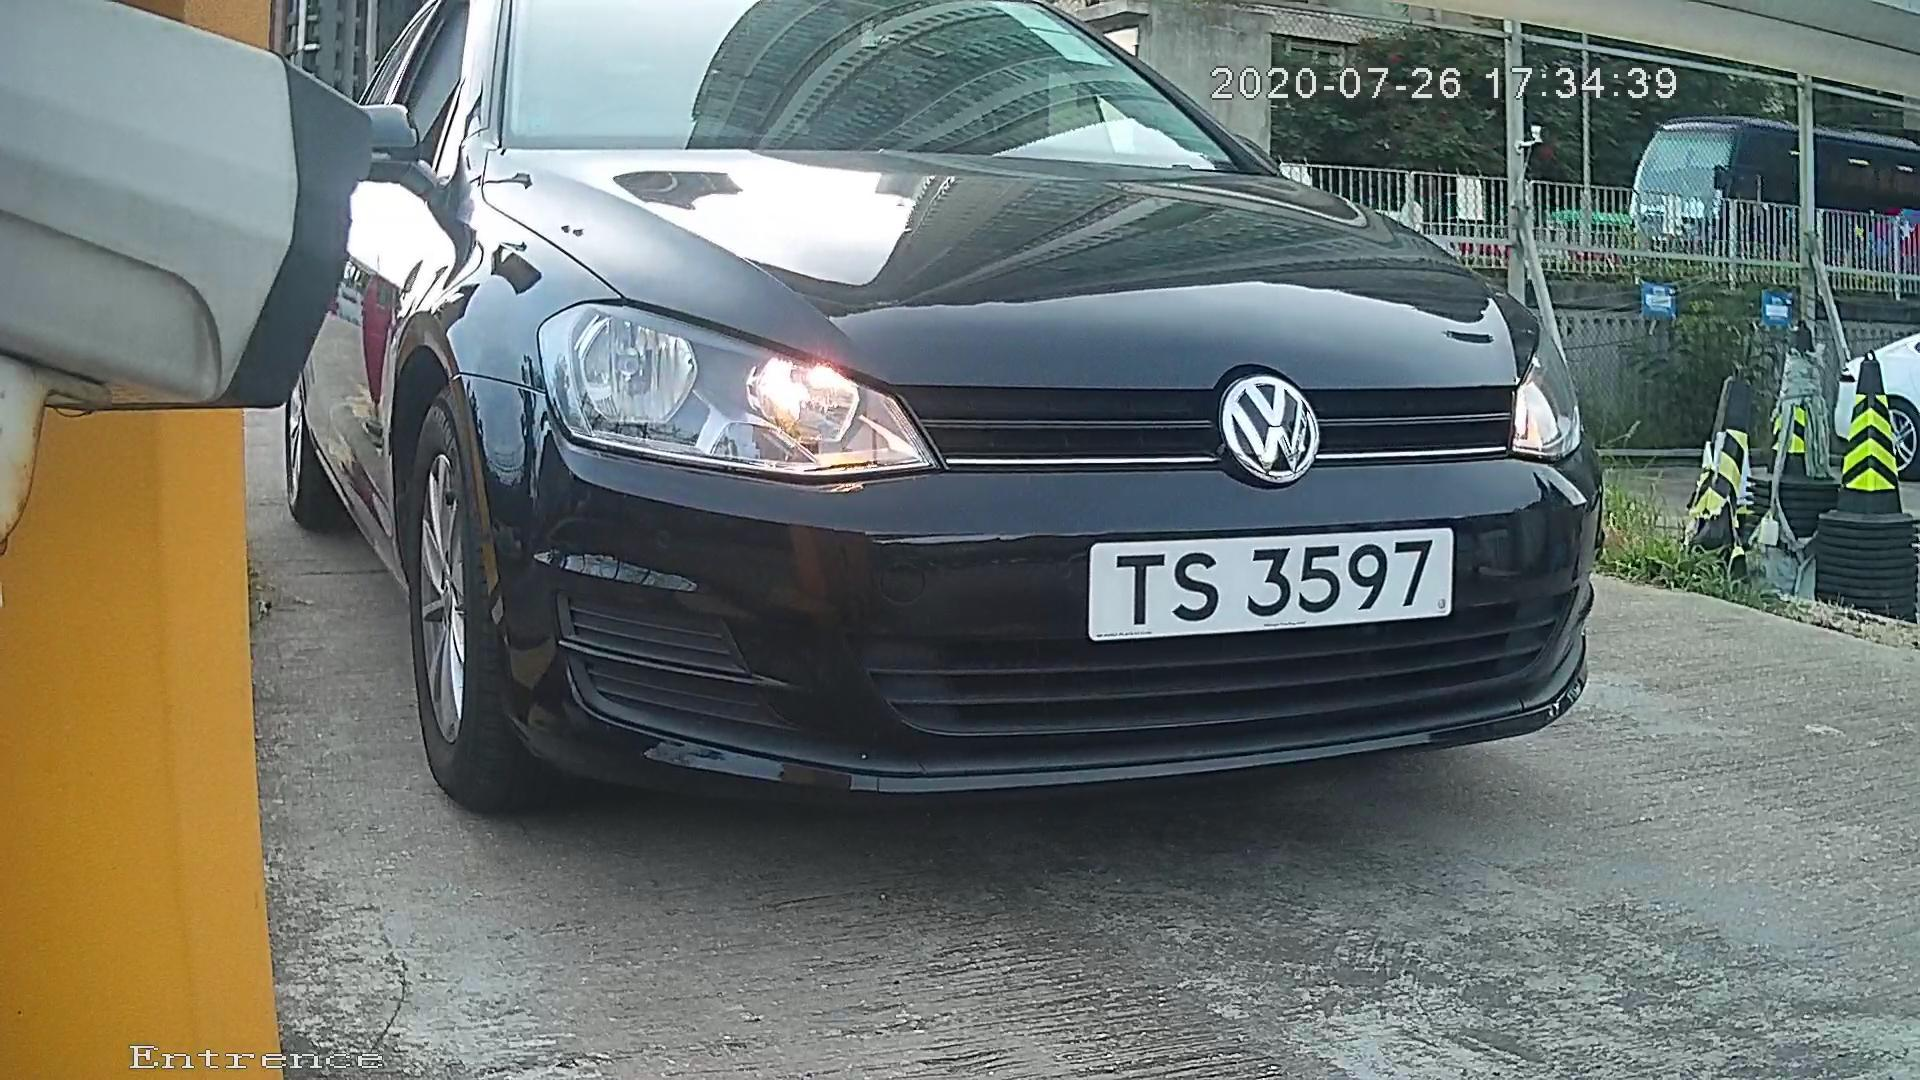privatecar: (206, 15, 1792, 839)
